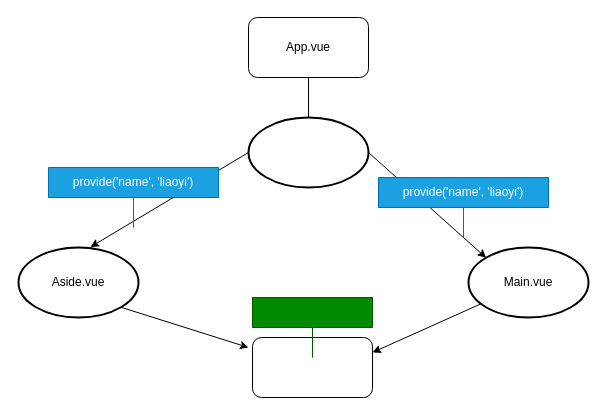
Image size: 606x415. Some labels were removed from this diagram. Each missing label, with the centre of its shape:
Home.vue: the point at 308,152
inject('name'): the point at 312,327
Title.vue: the point at 312,367
